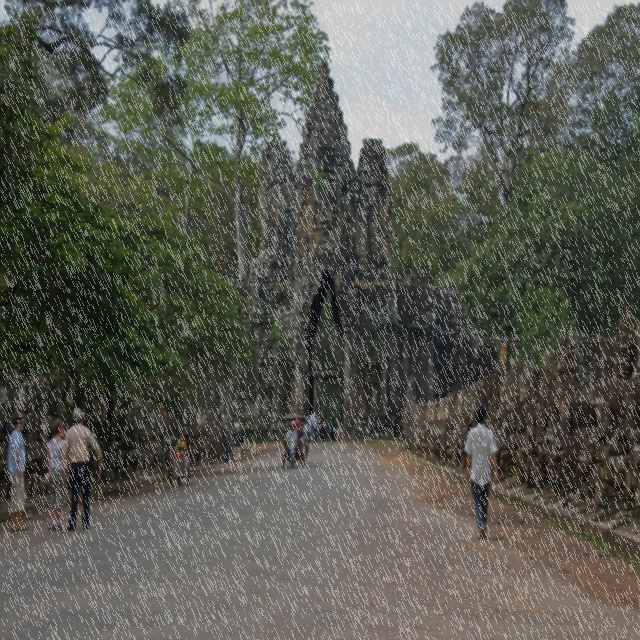pessoa: (61, 407, 104, 532), (462, 403, 500, 541), (4, 412, 30, 536), (300, 193, 348, 255), (46, 418, 71, 531), (231, 421, 244, 468), (286, 420, 298, 462), (174, 433, 188, 459), (222, 426, 230, 464), (328, 415, 338, 441), (310, 410, 318, 442), (318, 414, 327, 440), (302, 420, 310, 446), (308, 415, 314, 445), (296, 424, 304, 444), (300, 422, 307, 438)
